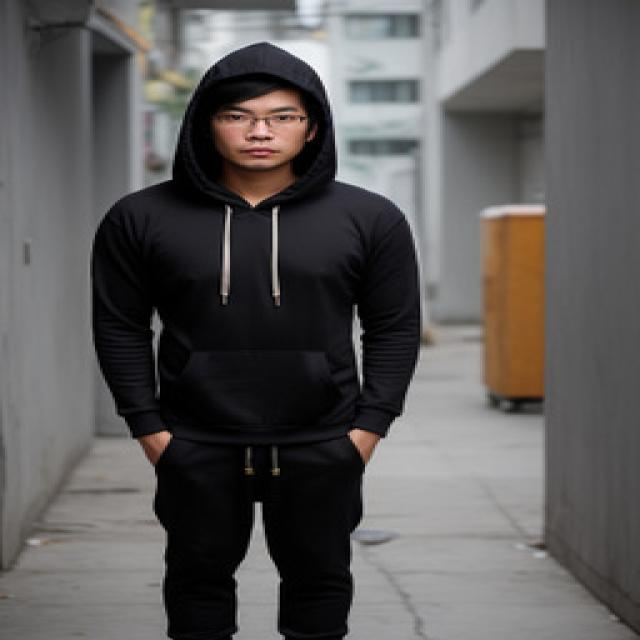Ai human 2: (73, 33, 452, 640)
